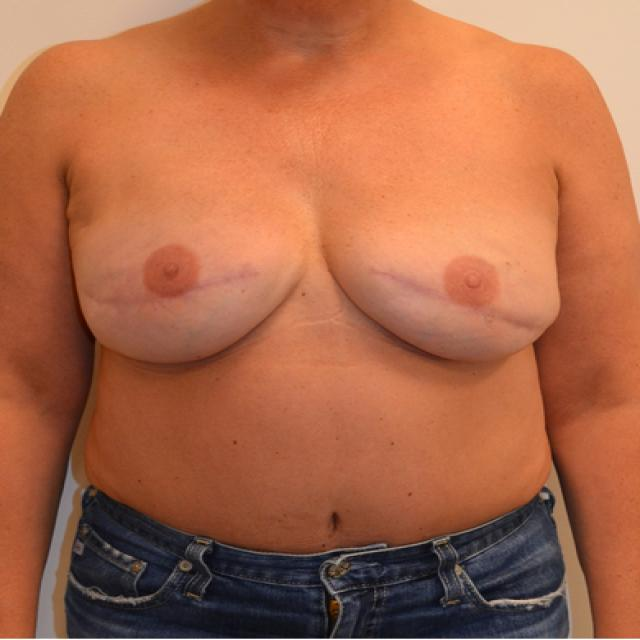Seno herido: (60, 150, 310, 376), (322, 149, 564, 372)
